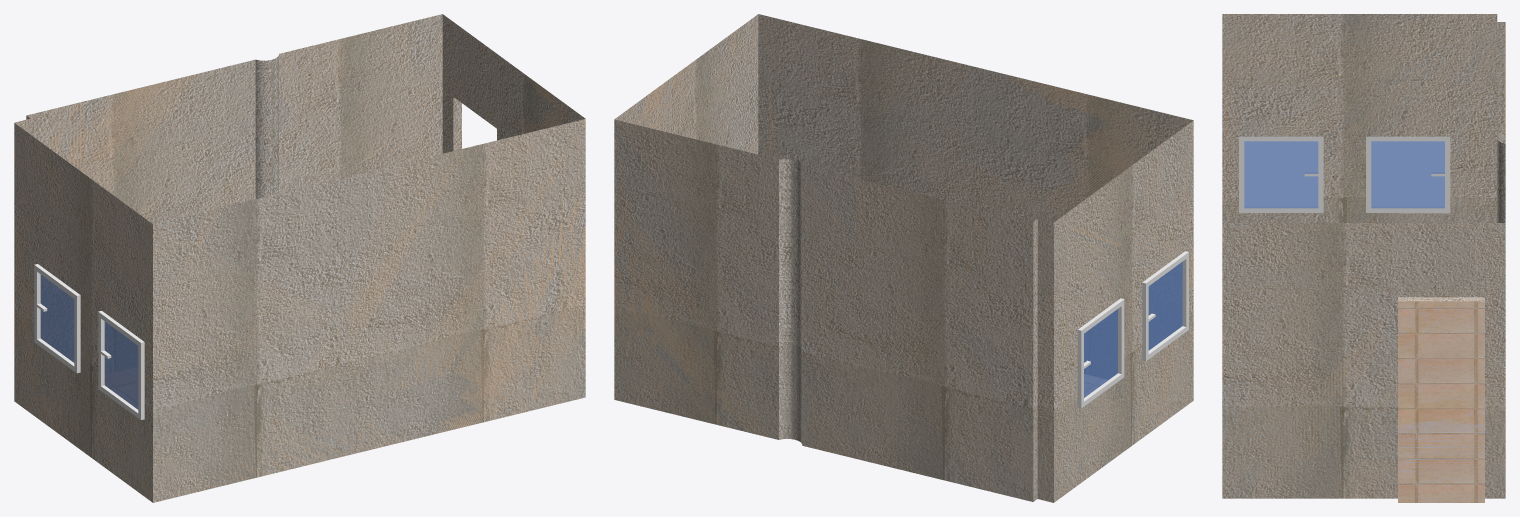
File: COM008.obj
3 views of the same model, side by side, from view 1: azimuth 30°, elevation 25°; view 2: azimuth 150°, elevation 25°; view 3: azimuth 270°, elevation 25° (orthographic).
Visible parts, largest first — view 1: Mesh7 COM008 Model, Mesh1 ventana3_1_1 COM008 Model, Mesh4 ventana3_1_2 COM008 Model; view 2: Mesh7 COM008 Model, Mesh4 ventana3_1_2 COM008 Model, Mesh1 ventana3_1_1 COM008 Model; view 3: Mesh7 COM008 Model, Mesh4 ventana3_1_2 COM008 Model, Mesh1 ventana3_1_1 COM008 Model.
Part boxes in pixels (box(x1,y1,x2,y2)): Mesh7 COM008 Model: box(14, 14, 585, 502); Mesh1 ventana3_1_1 COM008 Model: box(98, 311, 144, 419); Mesh4 ventana3_1_2 COM008 Model: box(34, 264, 80, 373); Mesh7 COM008 Model: box(614, 14, 1193, 502); Mesh4 ventana3_1_2 COM008 Model: box(1077, 298, 1124, 408); Mesh1 ventana3_1_1 COM008 Model: box(1142, 251, 1188, 361); Mesh7 COM008 Model: box(1222, 14, 1505, 502); Mesh4 ventana3_1_2 COM008 Model: box(1366, 136, 1450, 213); Mesh1 ventana3_1_1 COM008 Model: box(1239, 136, 1323, 212).
Bounding box in the file's own units: 6.02 × 3.6 × 3.35.
6 materials, 2 textured.
